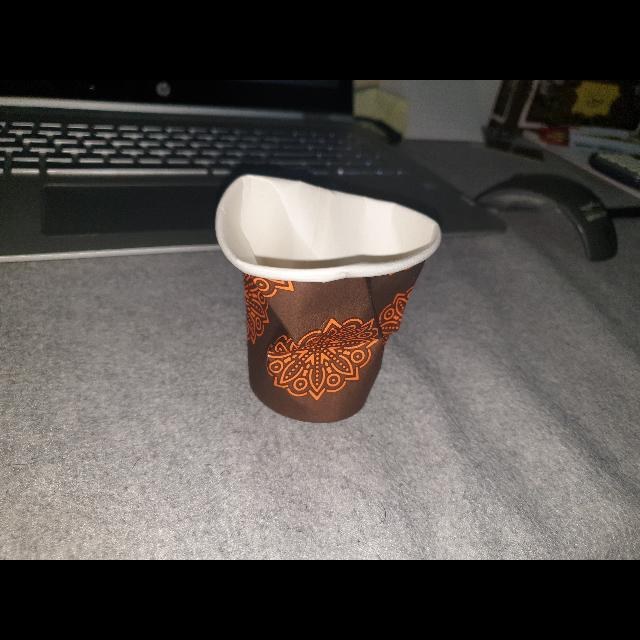trash: (192, 168, 450, 434)
